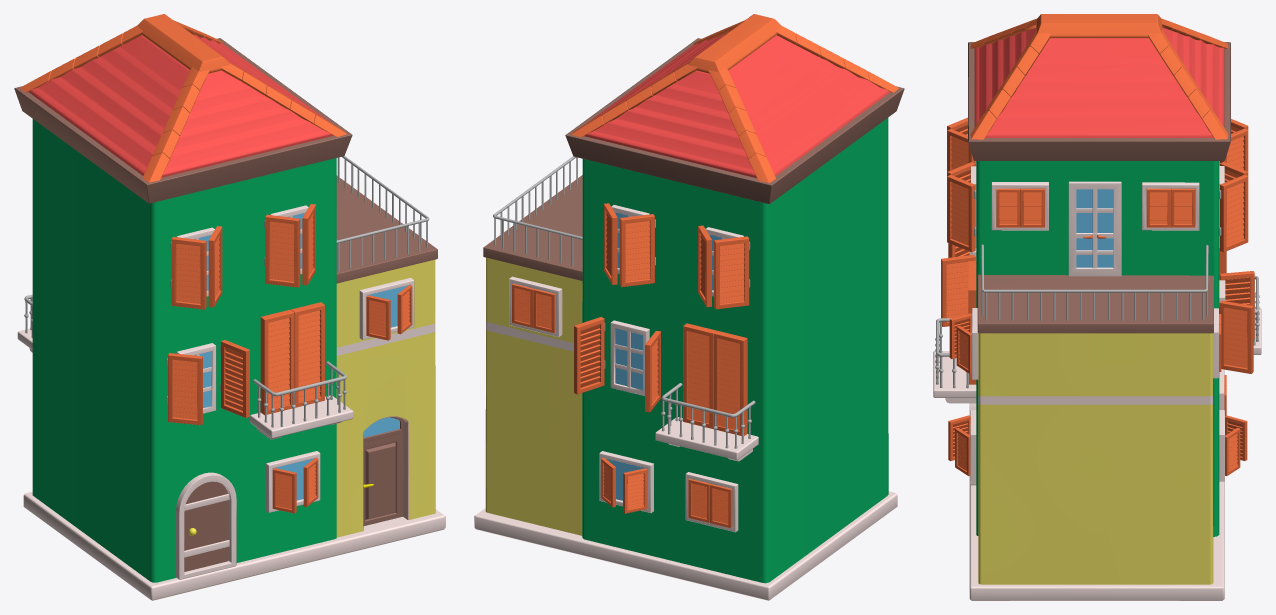
Rendered from City_8_House_1.glb.
3 views of the same model, side by side, from view 1: azimuth 30°, elevation 25°; view 2: azimuth 150°, elevation 25°; view 3: azimuth 270°, elevation 25° (orthographic).
Parts seen in each view (by area): view 1: City_8_House_1; view 2: City_8_House_1; view 3: City_8_House_1.
Boxes of the visible parts, box(x1,y1,x2,y2) form: City_8_House_1: box(14, 14, 445, 600); City_8_House_1: box(474, 14, 904, 600); City_8_House_1: box(933, 14, 1261, 600).
Size of the model in its own units: 7.81 by 12.22 by 7.45.
Materials: 1 (1 with a texture image).
